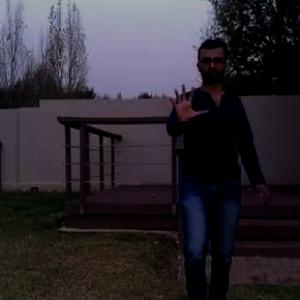follow_hand: (164, 80, 210, 123)
